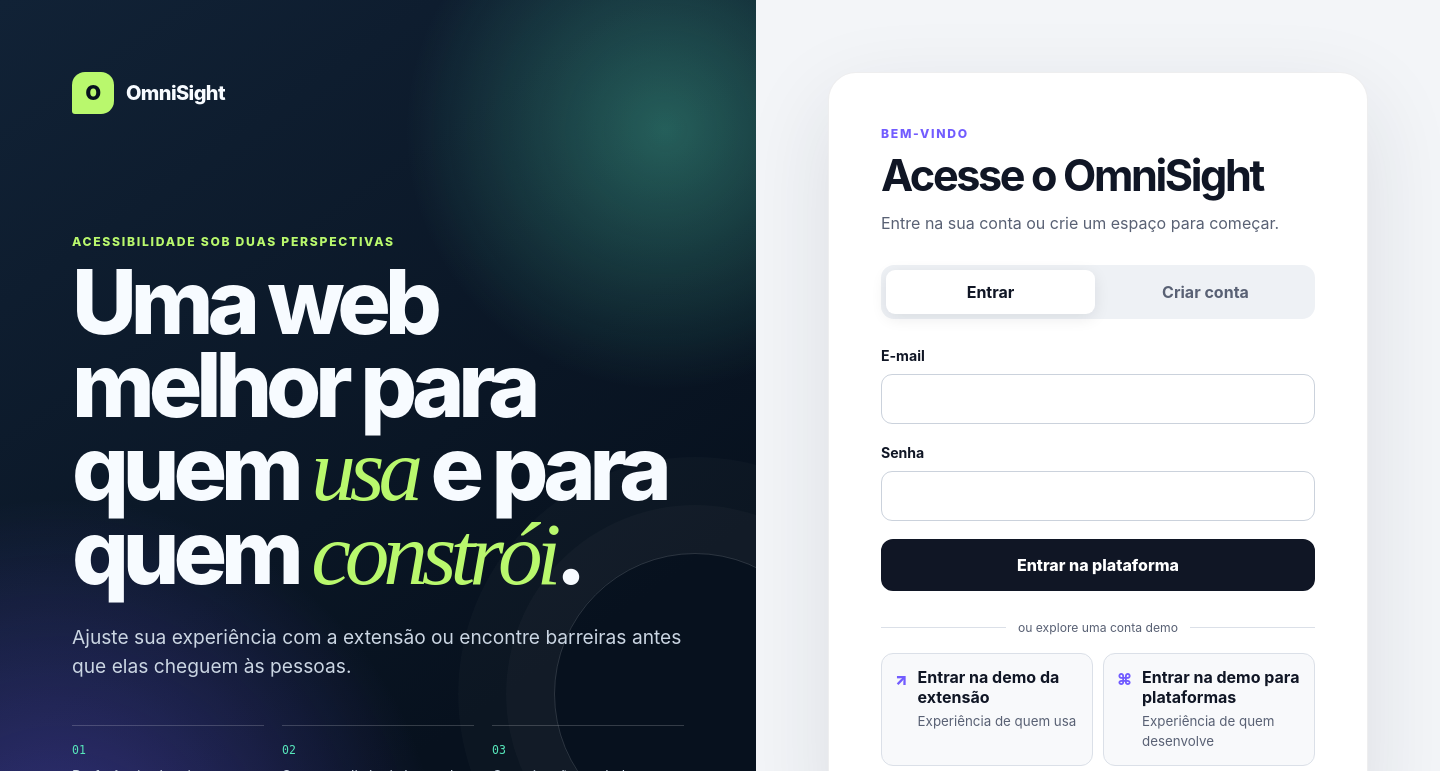
Test case: AuthExperience › opens the platform workspace after signing in with its demo
The width and height of the screenshot is (1440, 771).
Click the button "Entrar na demo para plataformas".
click(1209, 710)  # box top-left (1103, 653), bottom-right (1315, 766)
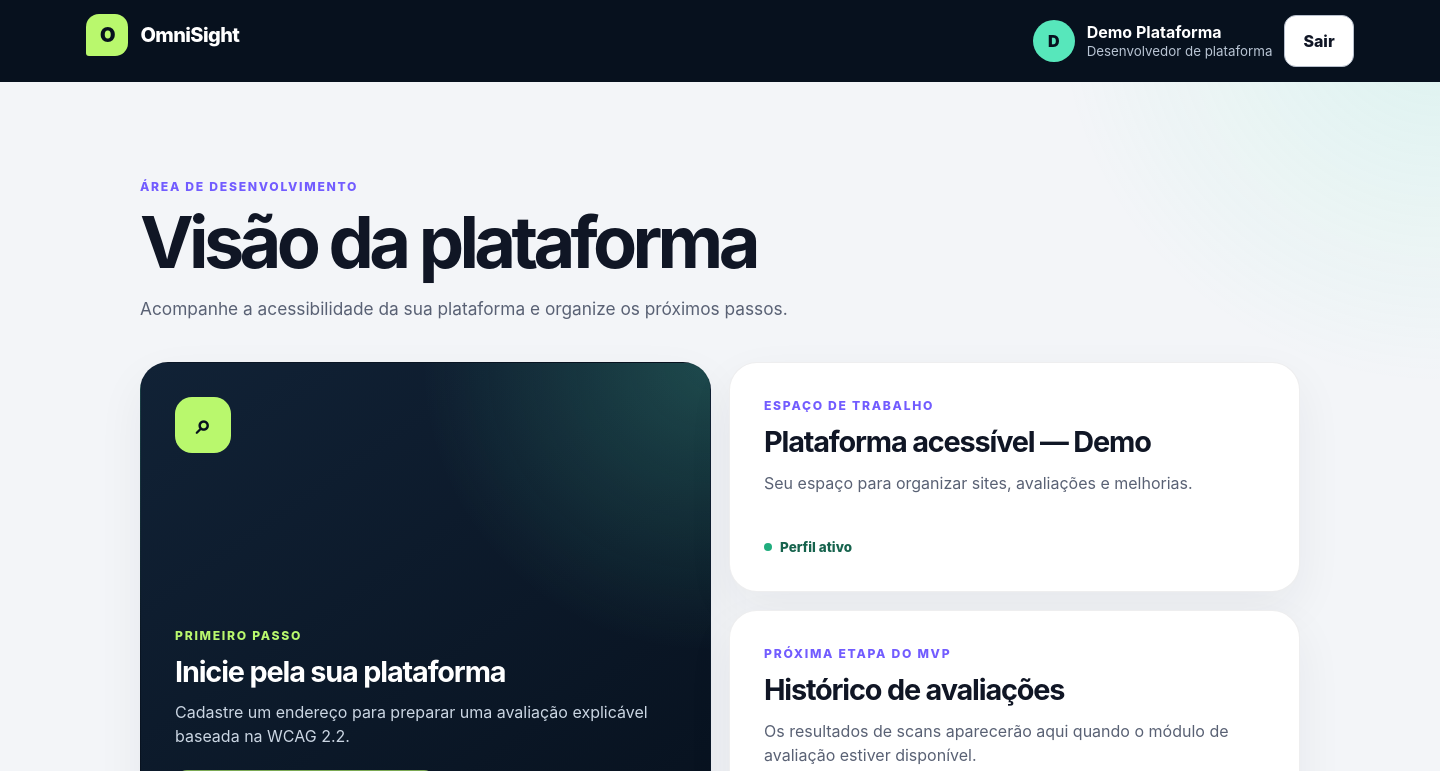
Now the heading "Visão da plataforma" is shown, box top-left (140, 198), bottom-right (756, 285)
Now the heading "Plataforma acessível — Demo" is shown, box top-left (764, 425), bottom-right (1151, 458)
